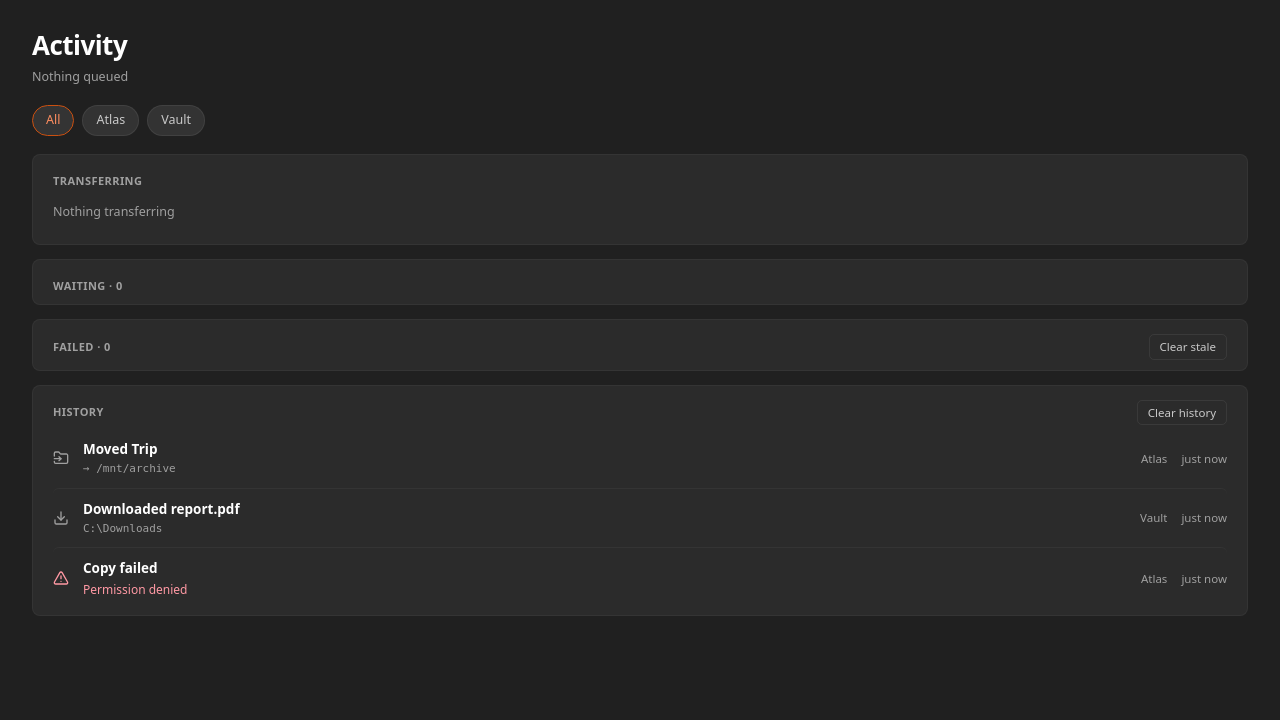
Test: QueueView history › clears the history only after a second, confirming click
Expected: the text "Moved Trip" is shown, [83,439,158,459]
Step 1. Click the button "Clear history" → {"x": 1182, "y": 412}, box [1137,400,1227,425]
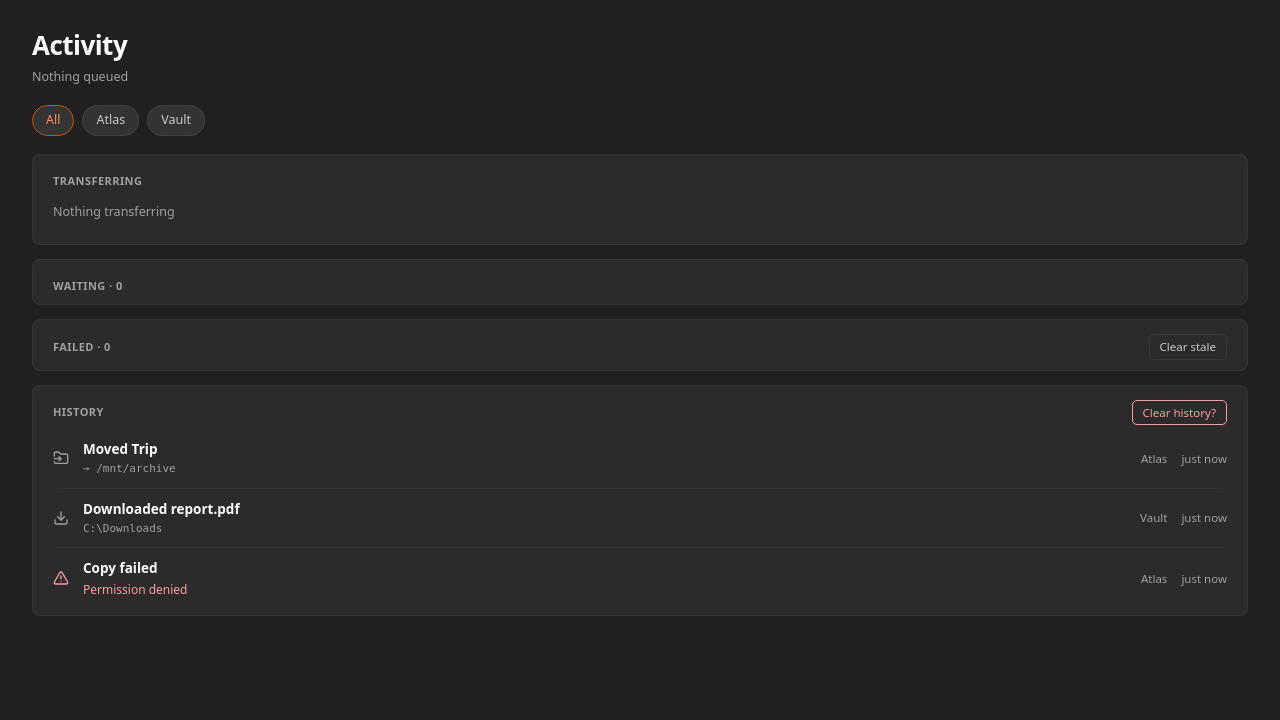
Step 2. Click the button "Clear history?" → {"x": 1179, "y": 412}, box [1132,400,1227,425]
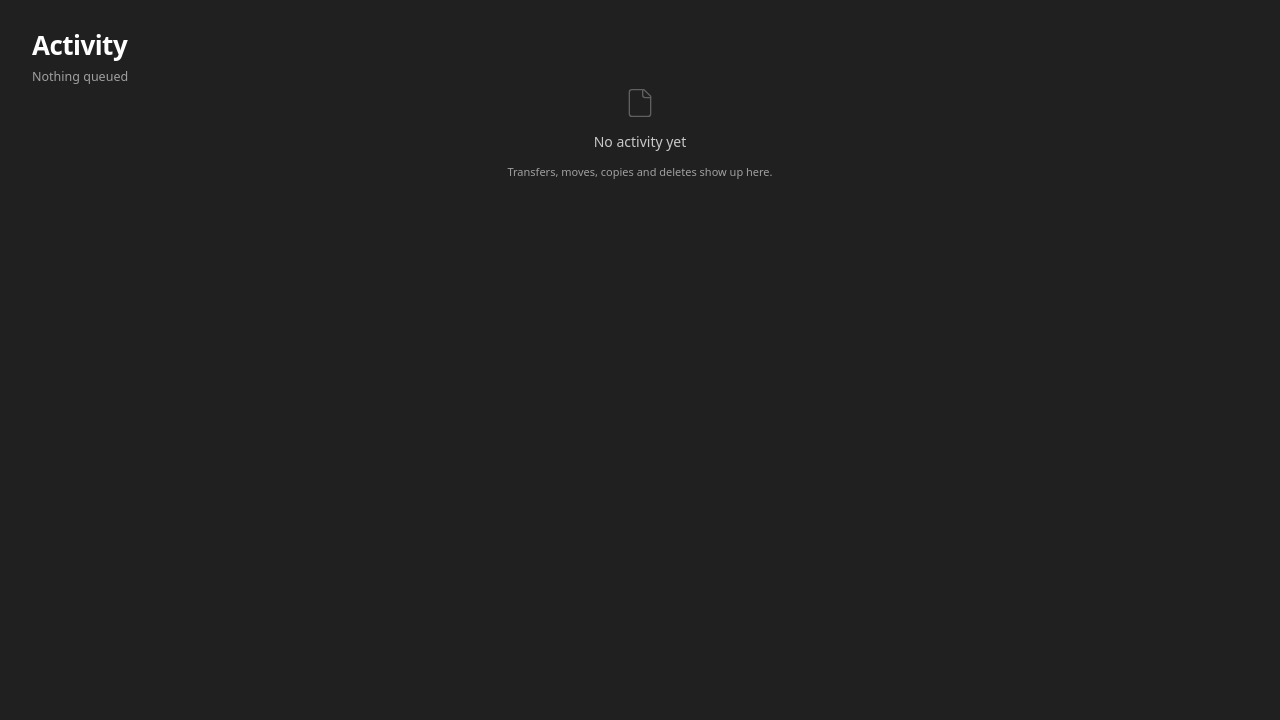
Result: the button "Moved Trip" is gone
Result: the text "No activity yet" is shown at [594,131,686,152]
